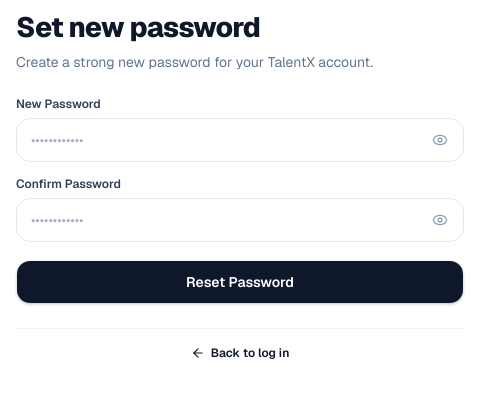
Scenario: ResetPasswordForm › shows validation error on empty password submission
Click the button "Reset Password" at (240, 282), box [16, 260, 464, 304]
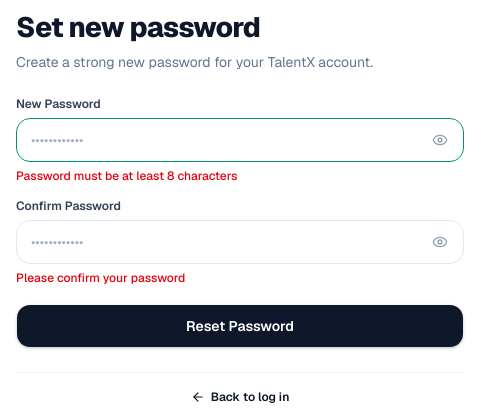
Result: the text "Password must be at least 8 characters" is shown at [16, 168, 237, 184]
Result: the text "Please confirm your password" is shown at [16, 270, 185, 286]
